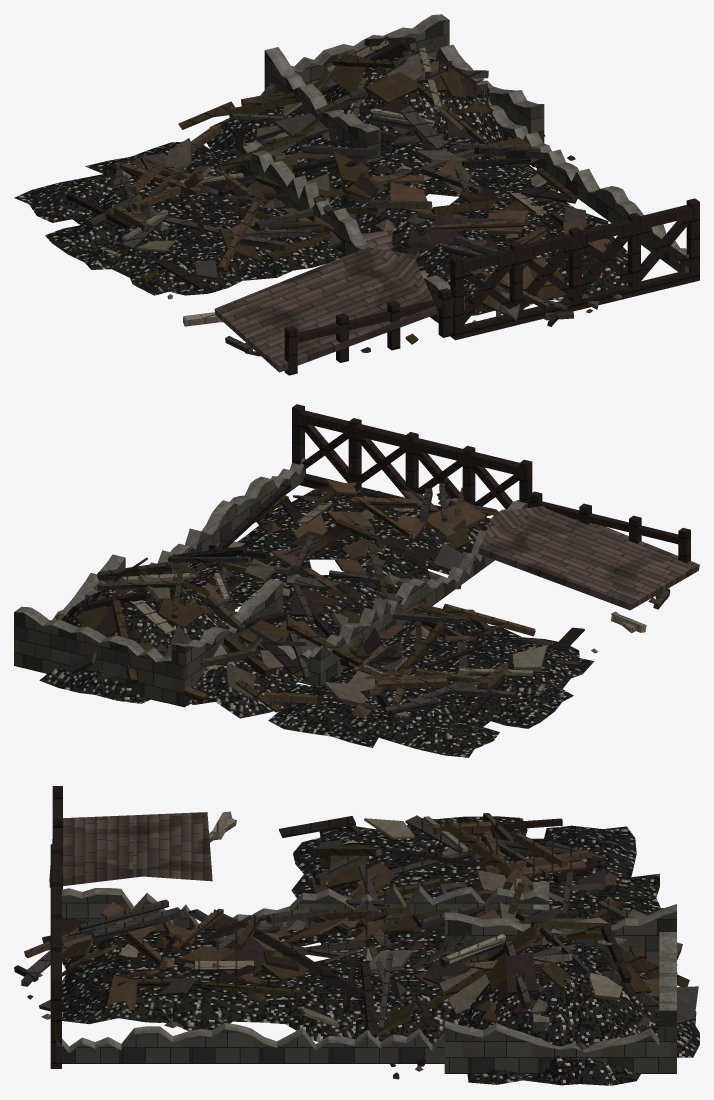
File: Arabuild06b.glb
The picture shows the model from 3 angles, top to bottom: view 1: azimuth 30°, elevation 25°; view 2: azimuth 150°, elevation 25°; view 3: azimuth 270°, elevation 25°; orthographic projection. The views are drawn at different scales.
Parts seen in each view (by area): view 1: Arabuild06b_stub; view 2: Arabuild06b_stub; view 3: Arabuild06b_stub.
Part boxes in pixels (x1=…): Arabuild06b_stub: x1=14, y1=14, x2=699, y2=375; Arabuild06b_stub: x1=14, y1=404, x2=699, y2=757; Arabuild06b_stub: x1=14, y1=786, x2=699, y2=1085.
Size of the model in its own units: 13.71 by 2.3 by 14.75.
Materials: 18 (18 with a texture image).
